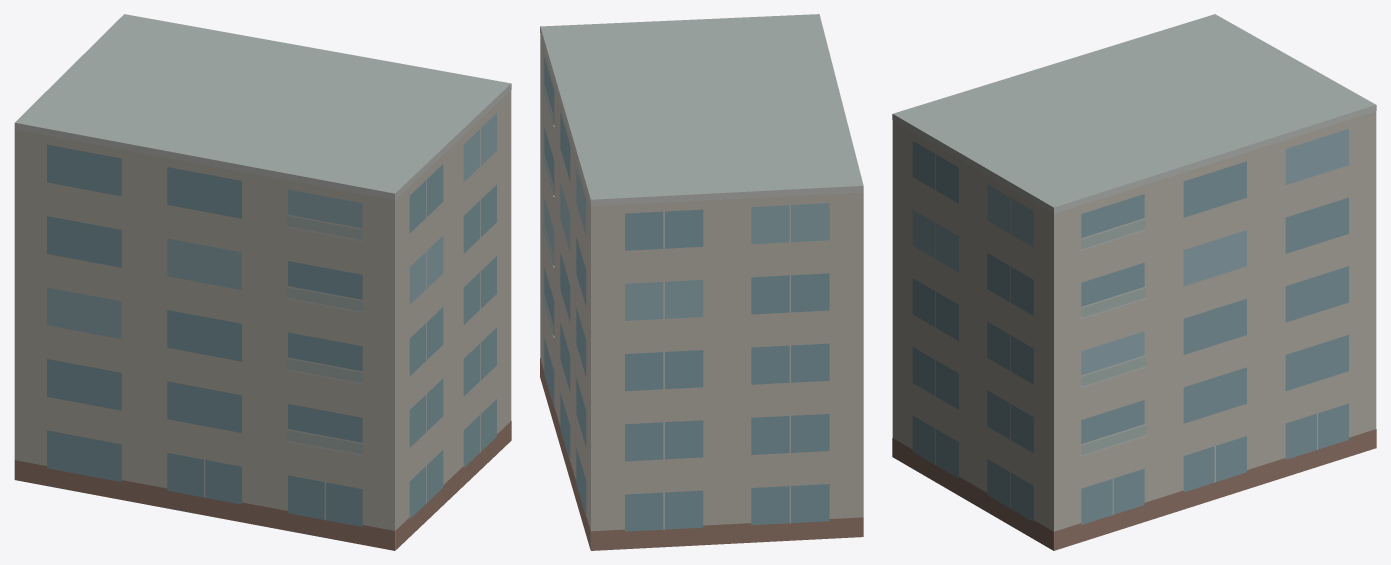
Rendered from survey-upis-33010650.glb.
3 renders of one model, left to right at view 1: azimuth 30°, elevation 25°; view 2: azimuth 150°, elevation 25°; view 3: azimuth 270°, elevation 25°, orthographic. The views are drawn at different scales.
Parts seen in each view (by area): view 1: survey-upis-33010650.tmp; view 2: survey-upis-33010650.tmp; view 3: survey-upis-33010650.tmp.
Part boxes in pixels (x1,y1,x2,y2): survey-upis-33010650.tmp: (14,14,511,550); survey-upis-33010650.tmp: (540,14,863,550); survey-upis-33010650.tmp: (892,14,1376,550).
Size of the model in its own units: 15.97 by 13.2 by 16.87.
